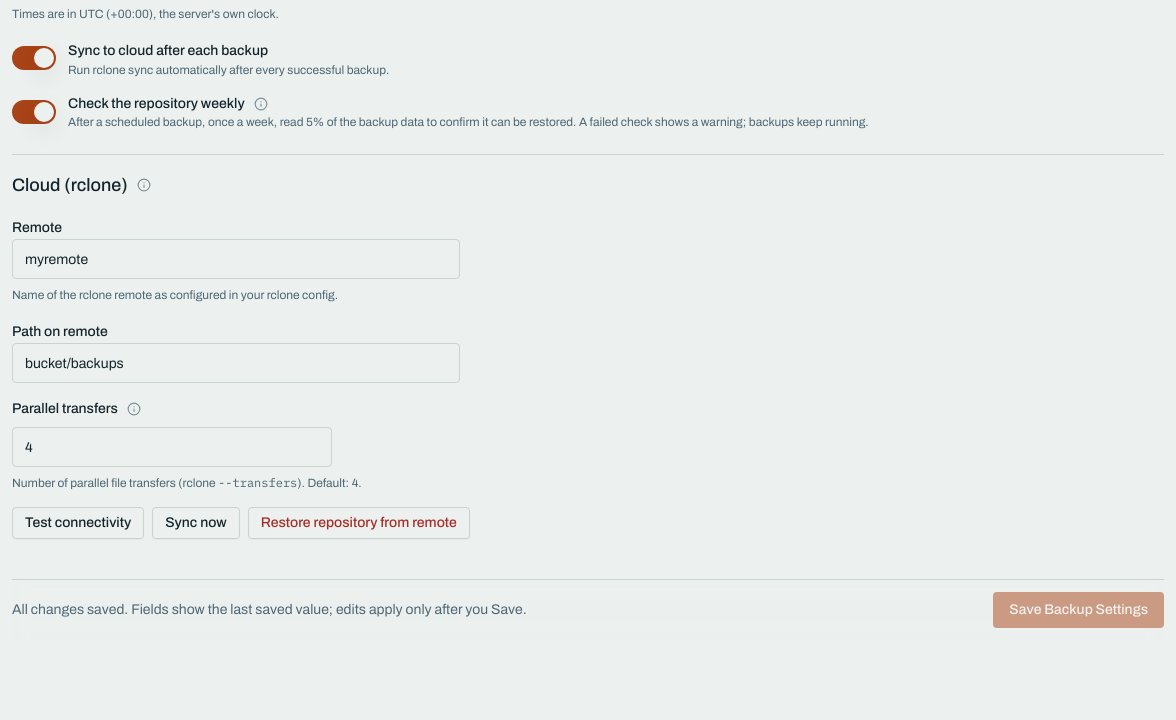
Test: BackupSettingsContent — Restore repository from remote › is disabled while the form has unsaved edits
(page scrolled)
expect the button "Restore repository from remote" is enabled: met, box [248,507,470,539]
Type "other/path" into the field labelled "Path on remote" at (236, 363), box [12,343,460,383]
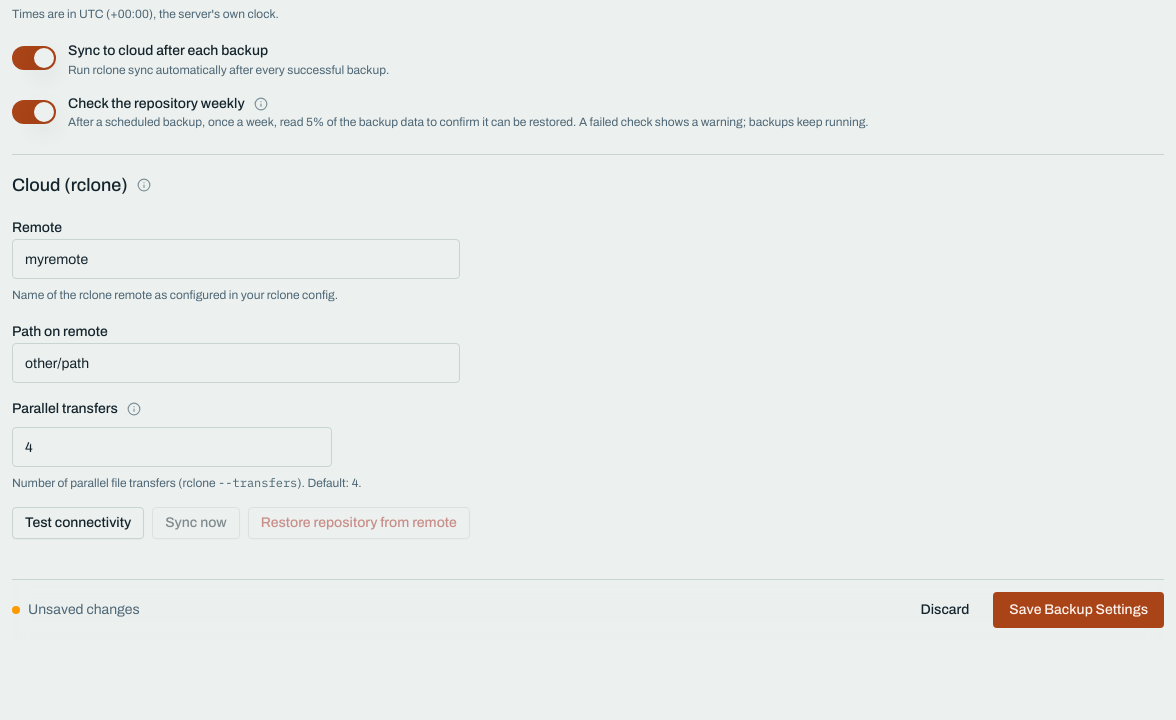
expect the button "Restore repository from remote" is disabled: met, box [248,507,470,539]
